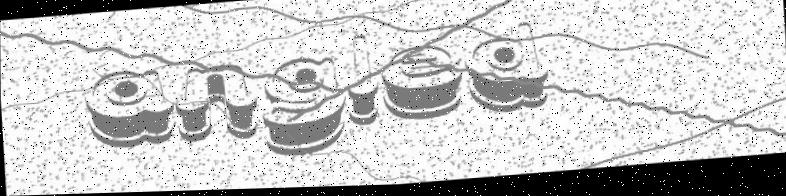a: (81, 66, 176, 153)
d: (461, 23, 549, 118)
e: (378, 45, 463, 126)
g: (259, 56, 348, 162)
l: (343, 34, 381, 130)
n: (173, 64, 262, 148)
